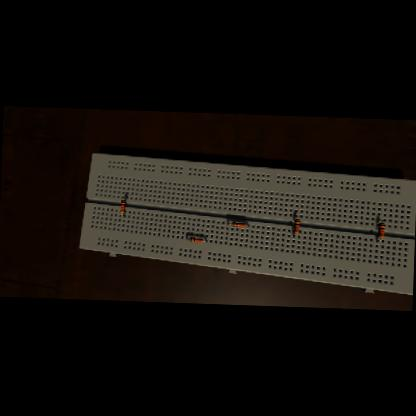breadboard: (78, 152, 416, 295)
resistor: (378, 223, 386, 238), (294, 219, 300, 233), (120, 200, 126, 212), (232, 221, 246, 226), (190, 237, 202, 242)
wire: (378, 219, 383, 223), (376, 238, 382, 240), (295, 216, 298, 219), (124, 197, 128, 199), (122, 213, 125, 215), (228, 222, 231, 224), (294, 234, 297, 236), (187, 238, 189, 240), (204, 239, 206, 241), (247, 225, 249, 226)
